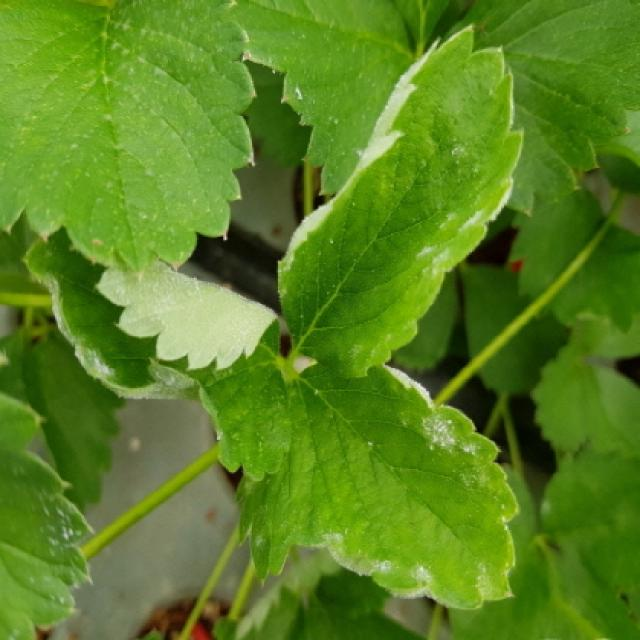Powdery Mildew Leaf: (275, 20, 523, 379), (236, 356, 520, 608), (22, 223, 295, 483), (2, 394, 97, 638)
